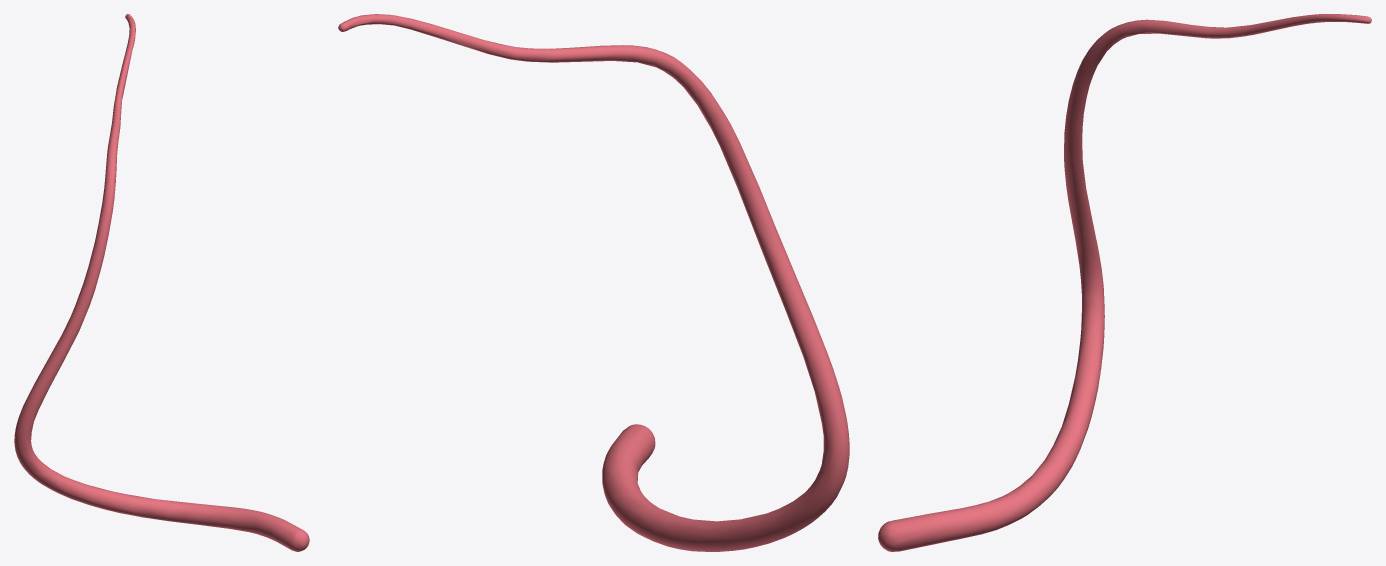
File: fma50483_fj5018.glb
3 views of the same model, side by side, from view 1: azimuth 30°, elevation 25°; view 2: azimuth 150°, elevation 25°; view 3: azimuth 270°, elevation 25° (orthographic). The views are drawn at different scales.
Visible parts, largest first — view 1: FMA50483_FJ5018; view 2: FMA50483_FJ5018; view 3: FMA50483_FJ5018.
Part boxes in pixels (x1,y1,x2,y2): FMA50483_FJ5018: (14, 14, 309, 551); FMA50483_FJ5018: (338, 14, 849, 551); FMA50483_FJ5018: (878, 14, 1371, 551).
Size of the model in its own units: 0.0211 by 0.0373 by 0.0309.
